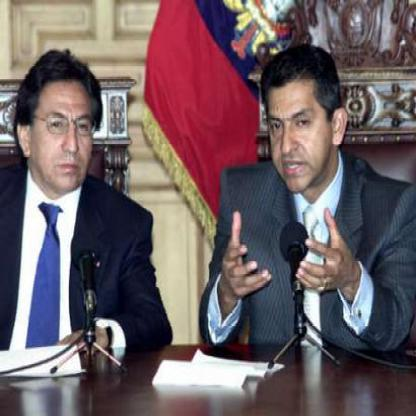face: (264, 53, 334, 195), (31, 65, 98, 194)
